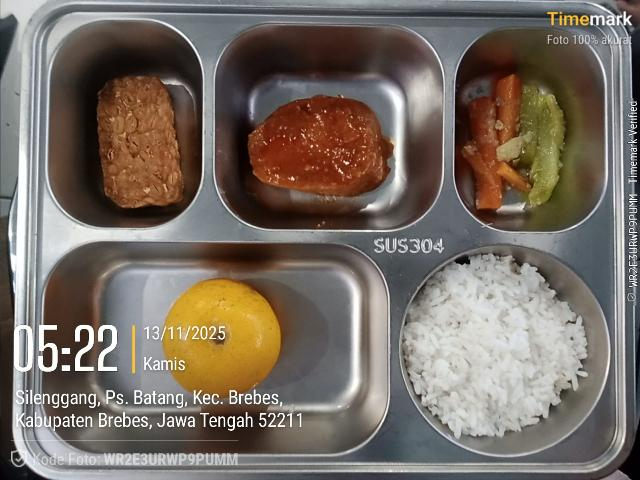ayam: (248, 95, 393, 196)
buah: (162, 278, 281, 398)
nasi: (402, 254, 588, 438)
sayur: (460, 74, 565, 210)
tempe: (97, 76, 183, 208)
